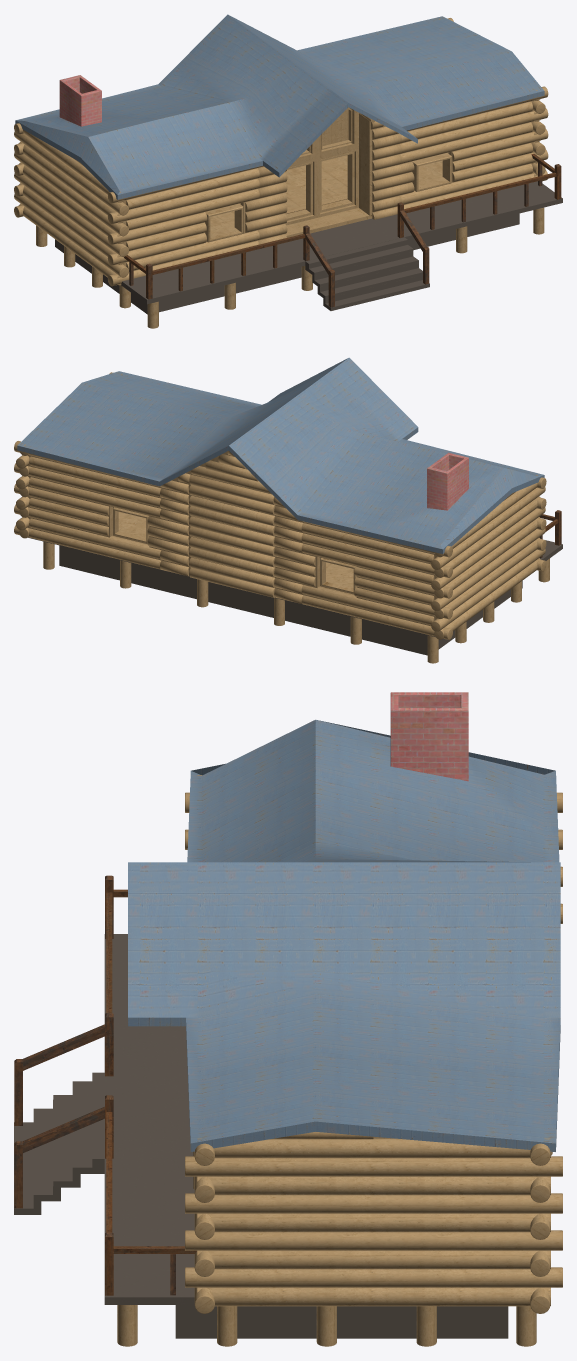
The model's file is cabin.glb.
3 renders of one model, top to bottom at view 1: azimuth 30°, elevation 25°; view 2: azimuth 150°, elevation 25°; view 3: azimuth 270°, elevation 25°, orthographic. The views are drawn at different scales.
Visible parts, largest first — view 1: house_main, stairs, Cylinder.049, Cube.052, Cylinder.048, Cylinder.050, Cylinder.044, posts, Cylinder.047, Cylinder.045, fireplace, Cylinder.046 (+20 smaller); view 2: house_main, Cube.052, Cylinder.043, Cylinder.049, Cylinder.044, posts, Cylinder.050, Cylinder.048, fireplace, Cylinder.047, Cylinder.045, Cylinder.046 (+31 smaller); view 3: house_main, Cube.052, stairs, Cylinder.022, Cylinder.020, Cylinder.018, Cylinder.016, fireplace, Cylinder.002, Cylinder.017, Cylinder.019, Cylinder.021 (+10 smaller).
Part boxes in pixels (<box>): house_main: <box>15,14,562,304</box>; stairs: <box>305,237,429,310</box>; Cylinder.049: <box>14,108,548,224</box>; Cube.052: <box>55,213,519,314</box>; Cylinder.048: <box>126,122,533,230</box>; Cylinder.050: <box>126,101,533,209</box>; Cylinder.044: <box>126,164,533,271</box>; posts: <box>36,207,544,328</box>; Cylinder.047: <box>14,129,548,244</box>; Cylinder.045: <box>14,149,548,265</box>; fireplace: <box>59,75,101,126</box>; Cylinder.046: <box>126,143,533,250</box>; house_main: <box>17,357,562,636</box>; Cube.052: <box>59,545,522,655</box>; Cylinder.043: <box>14,525,546,639</box>; Cylinder.049: <box>14,463,546,577</box>; Cylinder.044: <box>29,518,434,625</box>; posts: <box>43,541,549,663</box>; Cylinder.050: <box>29,456,434,563</box>; Cylinder.048: <box>29,477,434,583</box>; fireplace: <box>427,452,468,510</box>; Cylinder.047: <box>14,484,546,598</box>; Cylinder.045: <box>14,504,546,619</box>; Cylinder.046: <box>29,498,434,604</box>; house_main: <box>104,719,560,1304</box>; Cube.052: <box>175,1305,508,1338</box>; stairs: <box>14,1072,104,1214</box>; Cylinder.022: <box>185,792,562,1176</box>; Cylinder.020: <box>185,829,562,1213</box>; Cylinder.018: <box>185,866,562,1250</box>; Cylinder.016: <box>185,903,562,1287</box>; fireplace: <box>390,692,468,781</box>; Cylinder.002: <box>196,1287,550,1306</box>; Cylinder.017: <box>196,1250,550,1269</box>; Cylinder.019: <box>196,1213,550,1232</box>; Cylinder.021: <box>196,1176,550,1195</box>.
Size of what is drawn, in the model's own units: 62.44 by 24.24 by 38.13.
5 materials, 5 textured.
